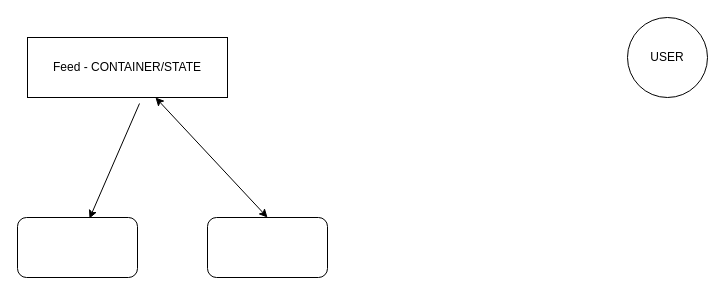
The diagram is 725 pixels wide and 295 high, and some of its shapes have lost their labels. Here are the shapes that lost their labels. From the top down, the centre of each, then its label:
At (x=77, y=247): "Post - PRESENTATION".
At (x=267, y=247): "PostForm - PRESENTATION".
